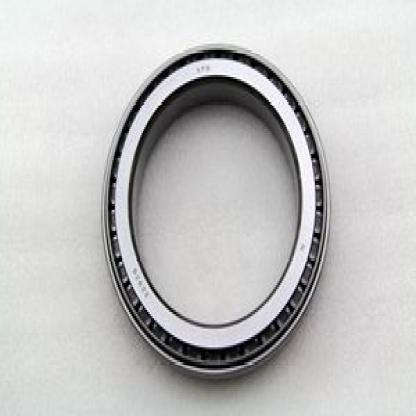FOD: (95, 36, 332, 382)
